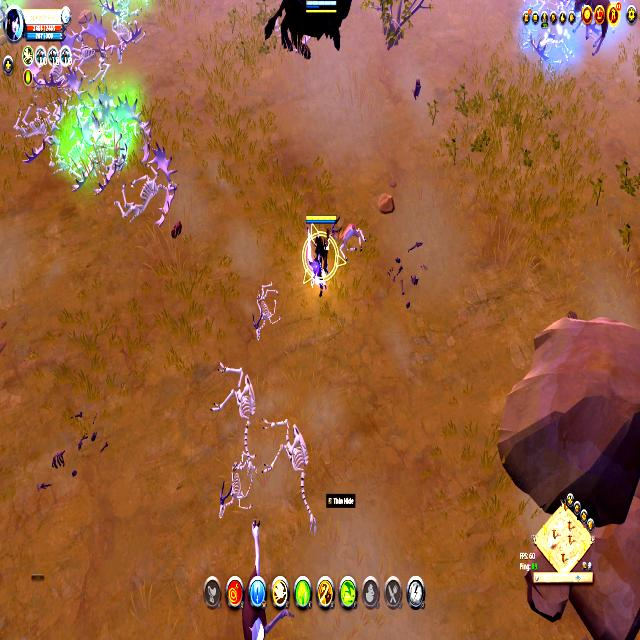mob: (237, 513, 291, 640), (326, 217, 368, 260)
red: (302, 212, 339, 292), (303, 0, 338, 16)
